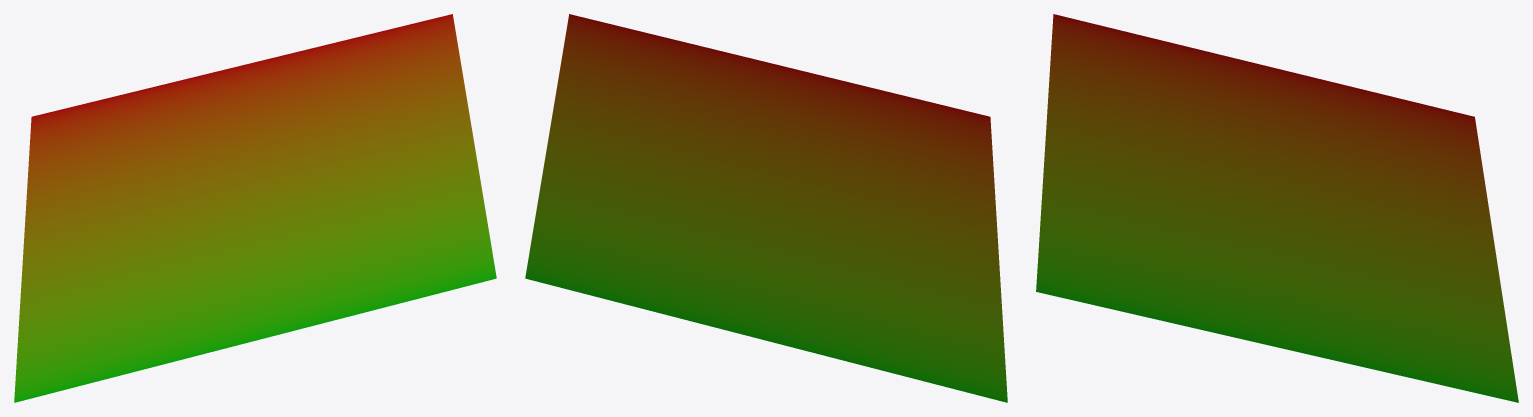
File: Var3_LOD3.fbx
The picture shows the model from 3 angles, left to right: view 1: azimuth 30°, elevation 25°; view 2: azimuth 150°, elevation 25°; view 3: azimuth 330°, elevation 25°; orthographic projection.
Parts seen in each view (by area): view 1: _0n3q_Var3_LOD3; view 2: _0n3q_Var3_LOD3; view 3: _0n3q_Var3_LOD3.
Boxes of the visible parts, left/top/right/bottom form: _0n3q_Var3_LOD3: left=14, top=14, right=496, bottom=402; _0n3q_Var3_LOD3: left=525, top=14, right=1007, bottom=402; _0n3q_Var3_LOD3: left=1036, top=14, right=1518, bottom=402.
Bounding box in the file's own units: 45.72 × 25.52 × 3.04e-06.
